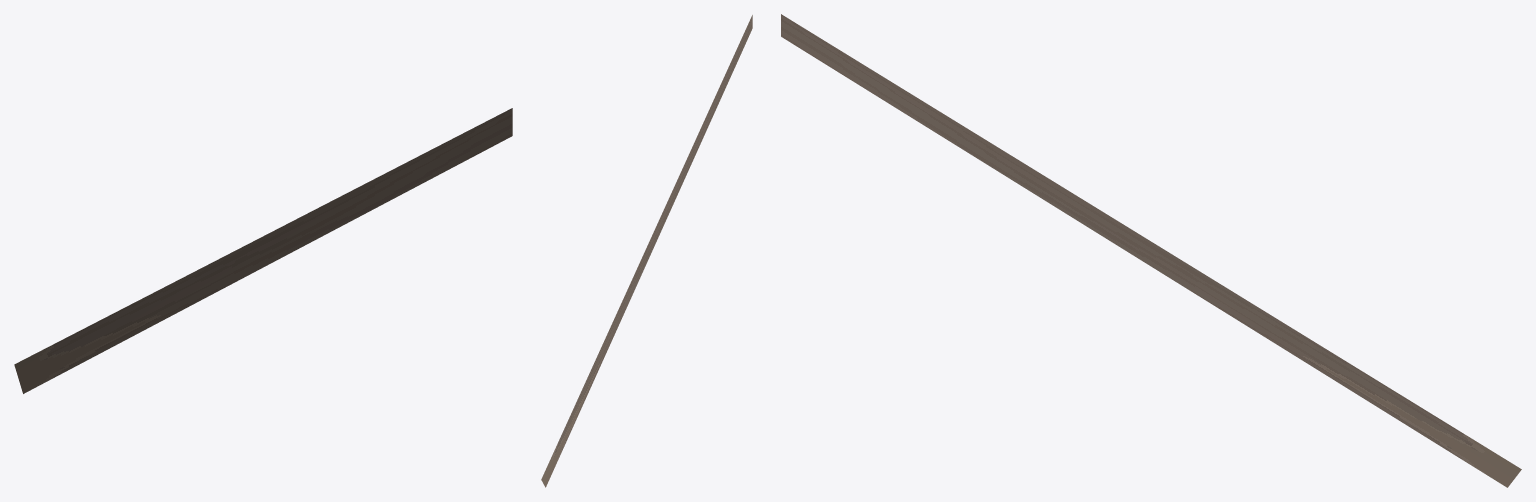
The model's file is kd_stage_135b75_4_51_bounded_portal_piece_2.glb.
The picture shows the model from 3 angles, left to right: view 1: azimuth 30°, elevation 25°; view 2: azimuth 150°, elevation 25°; view 3: azimuth 270°, elevation 25°; orthographic projection. The views are drawn at different scales.
Visible parts, largest first — view 1: kd_stage_135b75_4_51_bounded_portal_piece_2; view 2: kd_stage_135b75_4_51_bounded_portal_piece_2; view 3: kd_stage_135b75_4_51_bounded_portal_piece_2.
Part boxes in pixels (x1,y1,x2,y2): kd_stage_135b75_4_51_bounded_portal_piece_2: [14, 108, 512, 393]; kd_stage_135b75_4_51_bounded_portal_piece_2: [541, 15, 752, 487]; kd_stage_135b75_4_51_bounded_portal_piece_2: [781, 14, 1521, 487].
Size of the model in its own units: 0.0308 by 0.4756 by 0.6534.
1 material, 1 textured.
